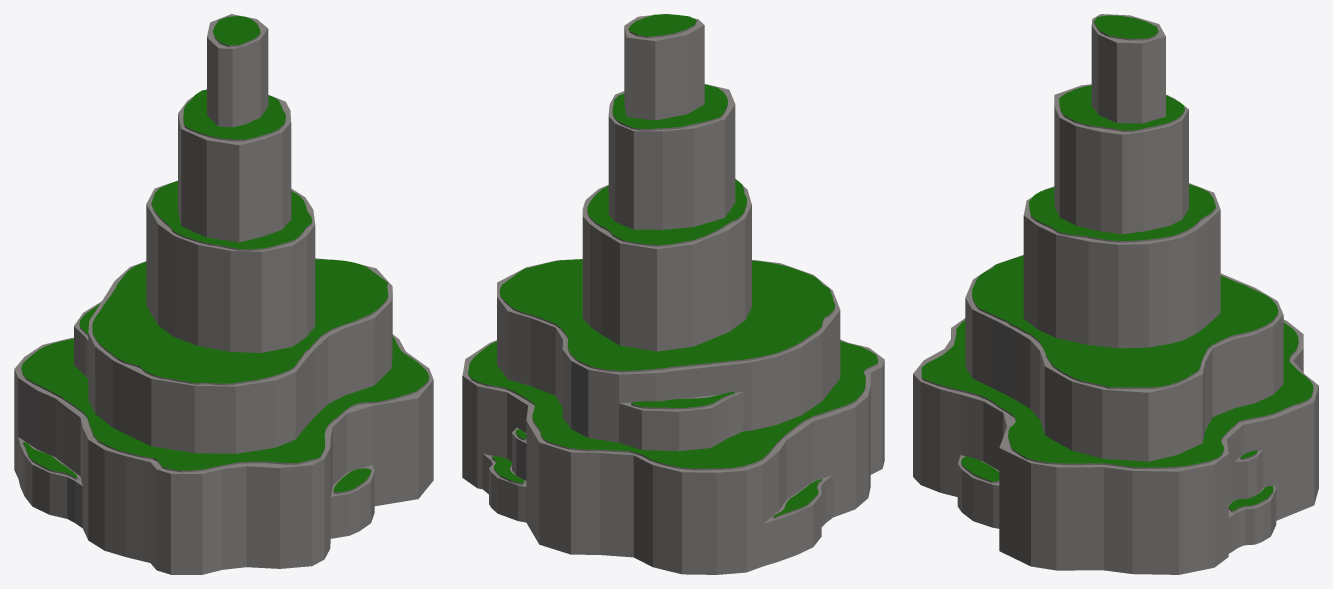
The model's file is Peak.fbx.
3 renders of one model, left to right at view 1: azimuth 30°, elevation 25°; view 2: azimuth 150°, elevation 25°; view 3: azimuth 270°, elevation 25°, orthographic. The views are drawn at different scales.
Parts seen in each view (by area): view 1: Plane.008; view 2: Plane.008; view 3: Plane.008.
Part boxes in pixels (x1=…): Plane.008: x1=14, y1=14, x2=433, y2=574; Plane.008: x1=462, y1=14, x2=884, y2=574; Plane.008: x1=913, y1=14, x2=1318, y2=574.
Size of the model in its own units: 79.95 by 100 by 79.59.
